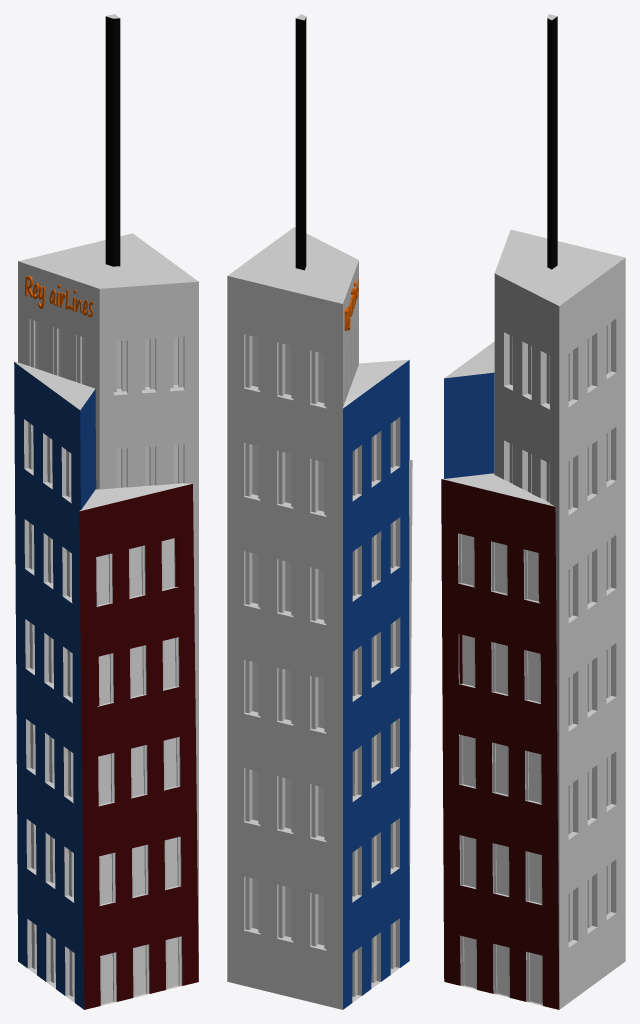
File: reyAirlines_HQ.fbx
The picture shows the model from 3 angles, left to right: view 1: azimuth 30°, elevation 25°; view 2: azimuth 150°, elevation 25°; view 3: azimuth 330°, elevation 25°; orthographic projection.
Parts seen in each view (by area): view 1: rey_airlines_HQ; view 2: rey_airlines_HQ; view 3: rey_airlines_HQ.
Boxes of the visible parts, x1,y1,x2,y2 form: rey_airlines_HQ: [14, 14, 198, 1009]; rey_airlines_HQ: [227, 14, 412, 1009]; rey_airlines_HQ: [441, 14, 625, 1009].
Bounding box in the file's own units: 248 × 1898 × 247.
